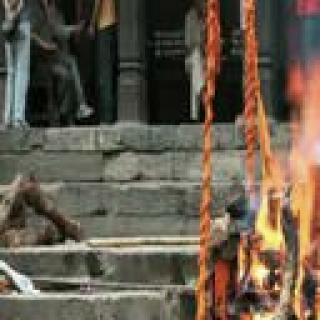fire: (248, 56, 320, 320)
